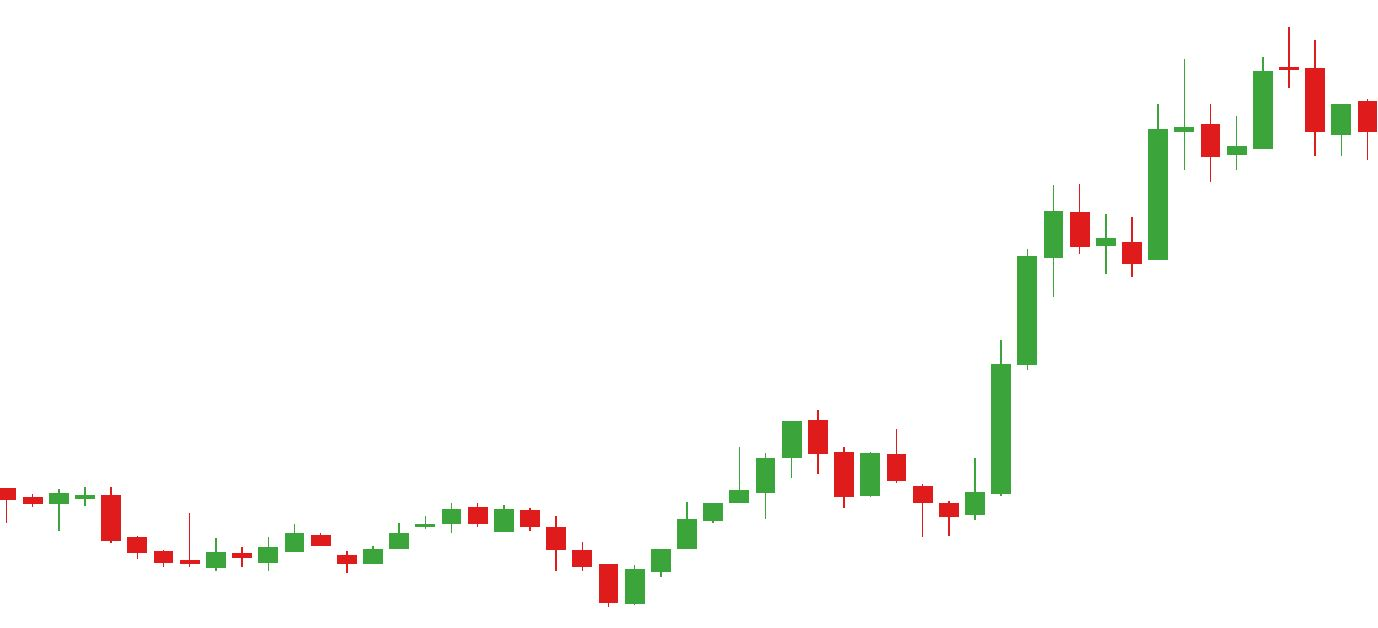buy: (339, 526, 649, 614), (832, 443, 987, 543)
